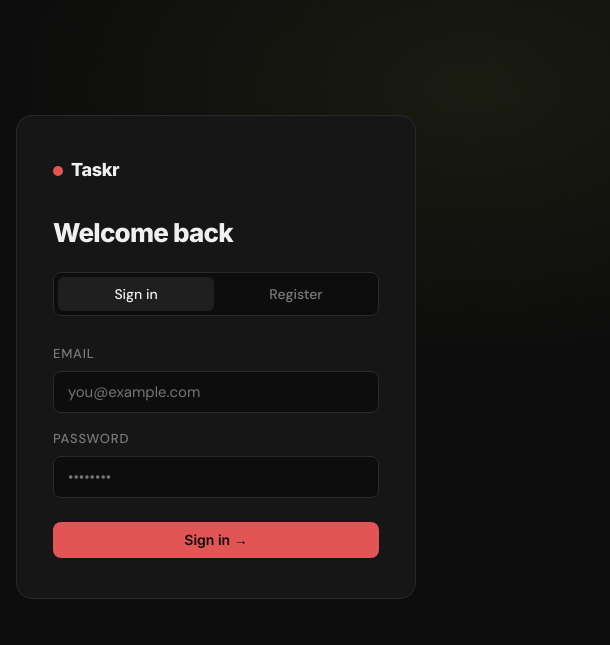
Test: LoginPage › shows error message when login fails
This screenshot has width=610, height=645.
Type "alice@test.com" into the field labelled "Email" at (216, 392), box [53, 371, 379, 413]
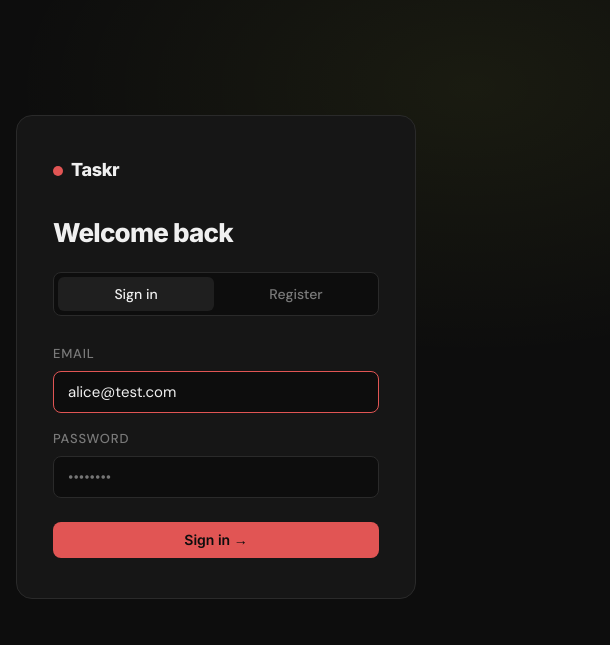
Type "wrongpass" into the password field labelled "Password" at (216, 477), box [53, 456, 379, 498]
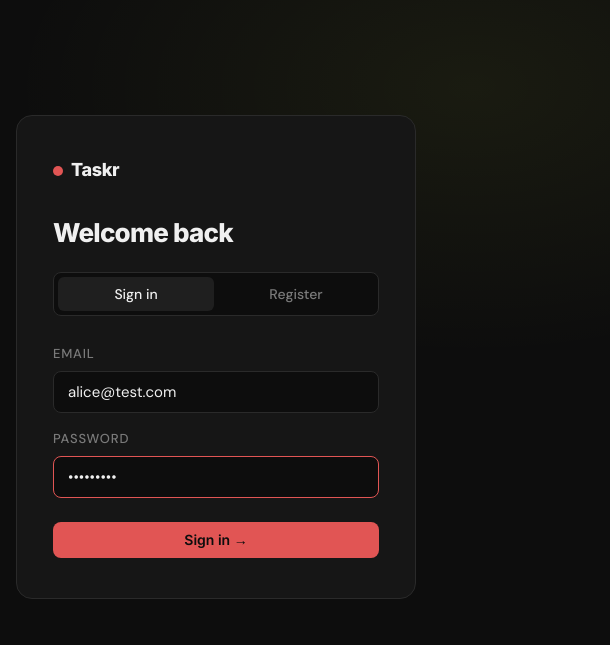
Click the button "Sign in →" at (216, 540), box [53, 522, 379, 558]
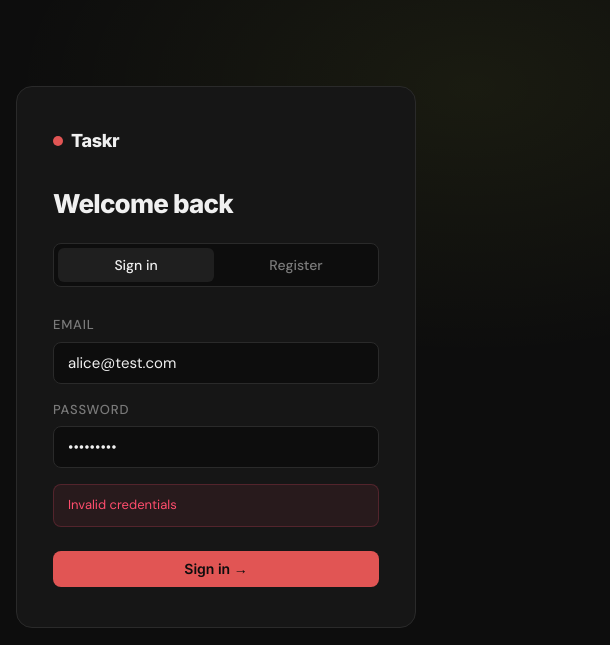
Expected: the message reads "Invalid credentials", [68, 496, 177, 513]
